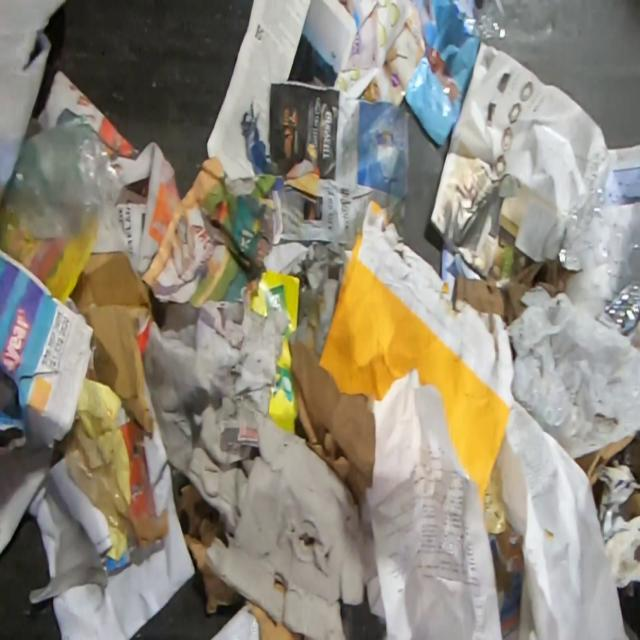cardboard: (142, 321, 378, 640), (314, 196, 514, 506), (170, 298, 288, 465), (68, 209, 154, 436), (174, 482, 240, 615), (452, 257, 576, 326), (573, 436, 636, 487), (246, 600, 305, 640)
soft_plastic: (506, 265, 640, 458), (0, 118, 125, 243), (542, 148, 640, 293), (404, 0, 482, 147), (595, 278, 640, 335), (472, 0, 508, 42)
